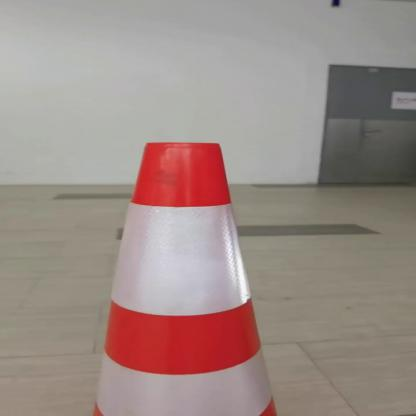cone: (76, 132, 354, 415)
